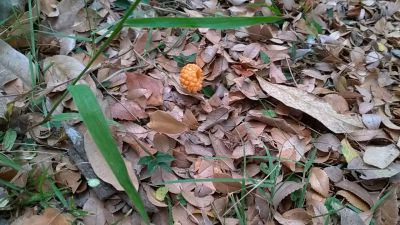eggs: (177, 60, 205, 93)
